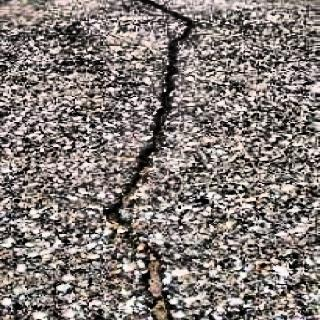crack: (95, 0, 201, 320)
